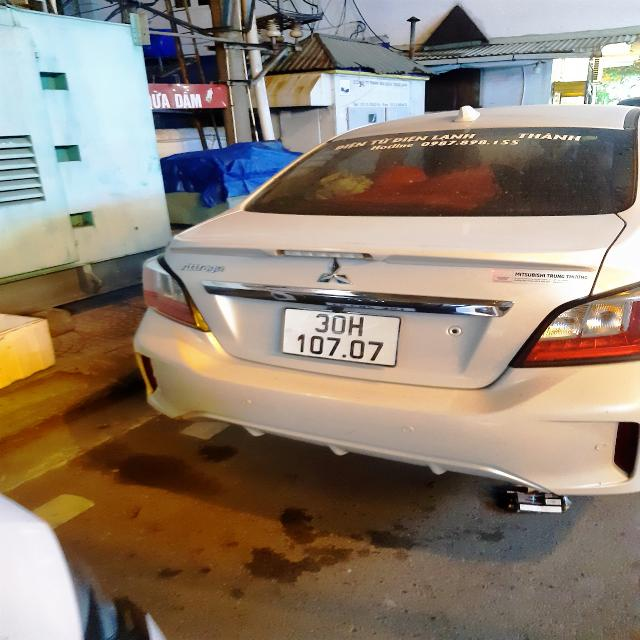license_plate: (275, 304, 410, 374)
